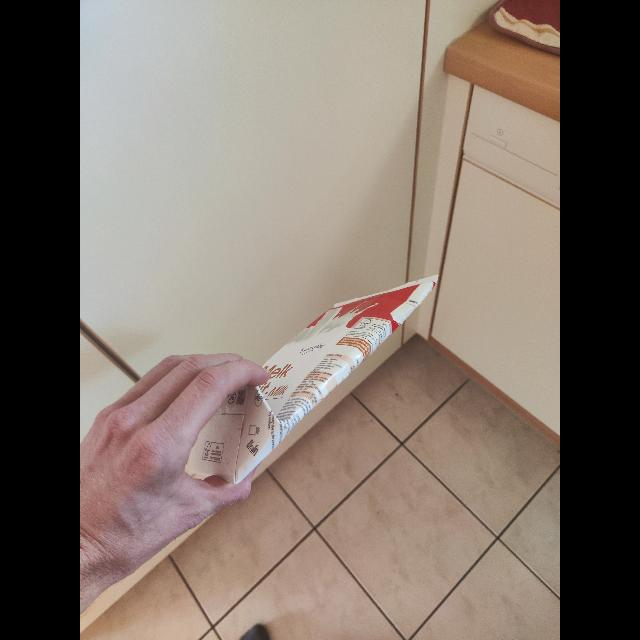Cardboard: (185, 272, 442, 483)
